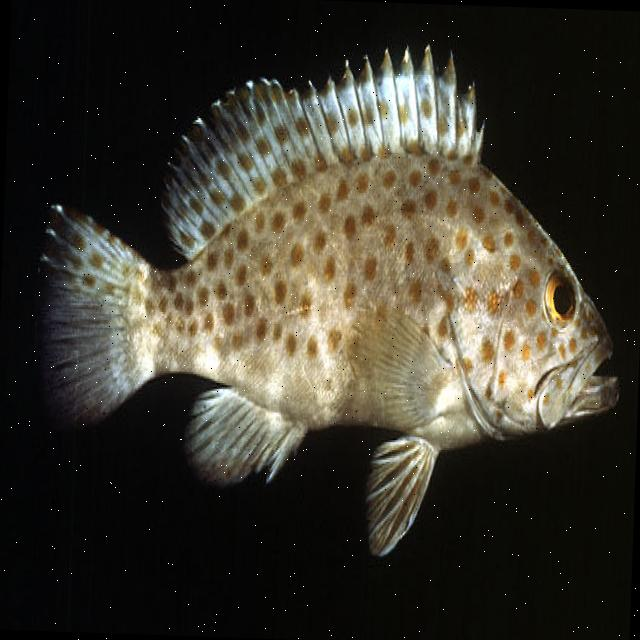ikan: (27, 28, 633, 568)
